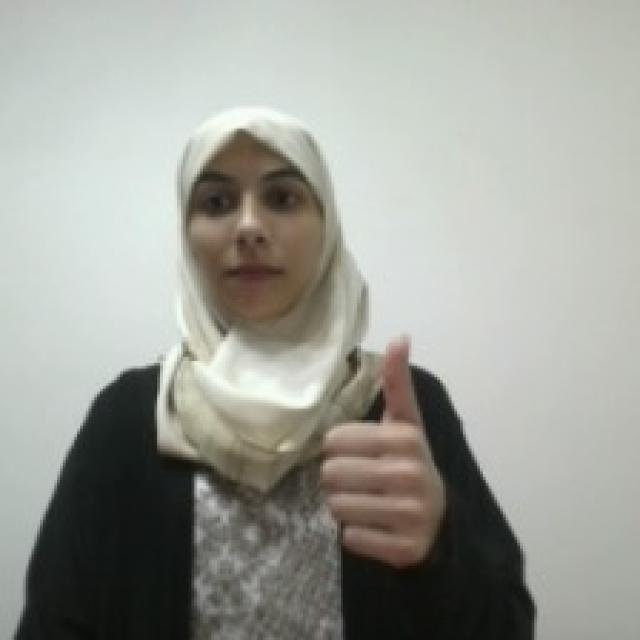fine: (316, 330, 444, 570)
